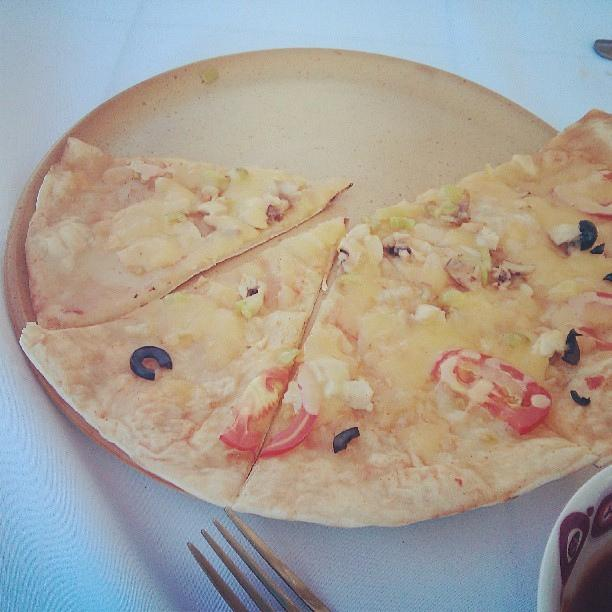tomato: (431, 350, 552, 434), (218, 362, 318, 457), (578, 322, 612, 352), (584, 375, 605, 391), (597, 292, 612, 298)
